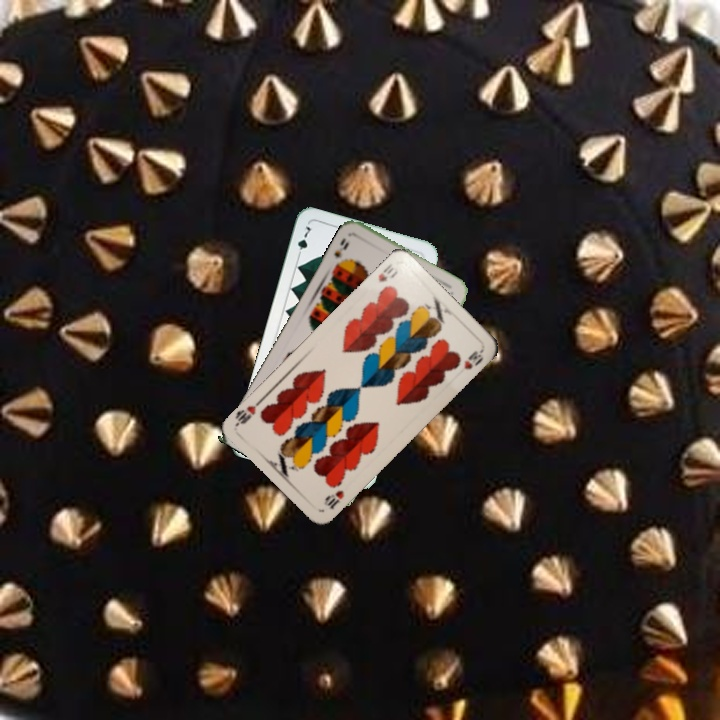G7: (293, 222, 315, 261)
H10: (320, 486, 347, 512), (374, 260, 400, 285)
S9: (330, 234, 352, 270)
